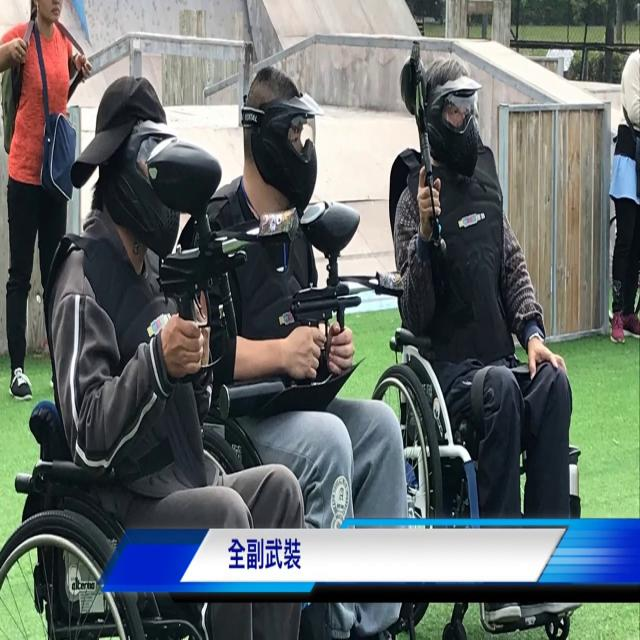wheelchairs: (364, 250, 599, 636), (1, 416, 333, 637)
